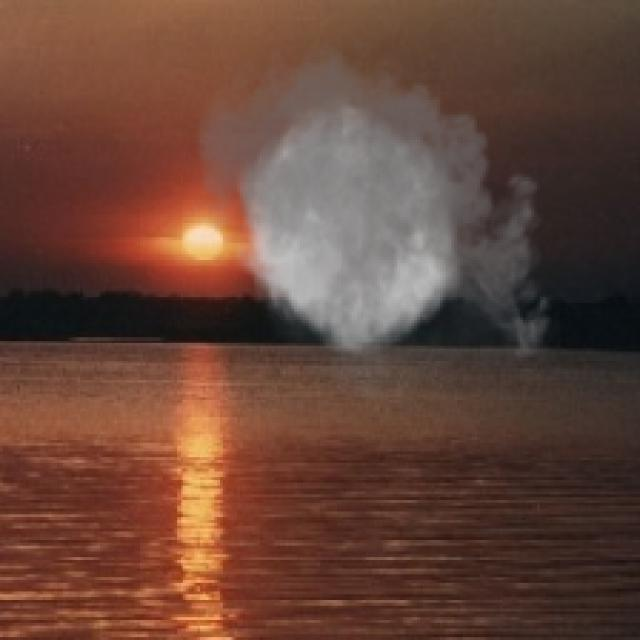Smoke: (183, 31, 563, 423)
